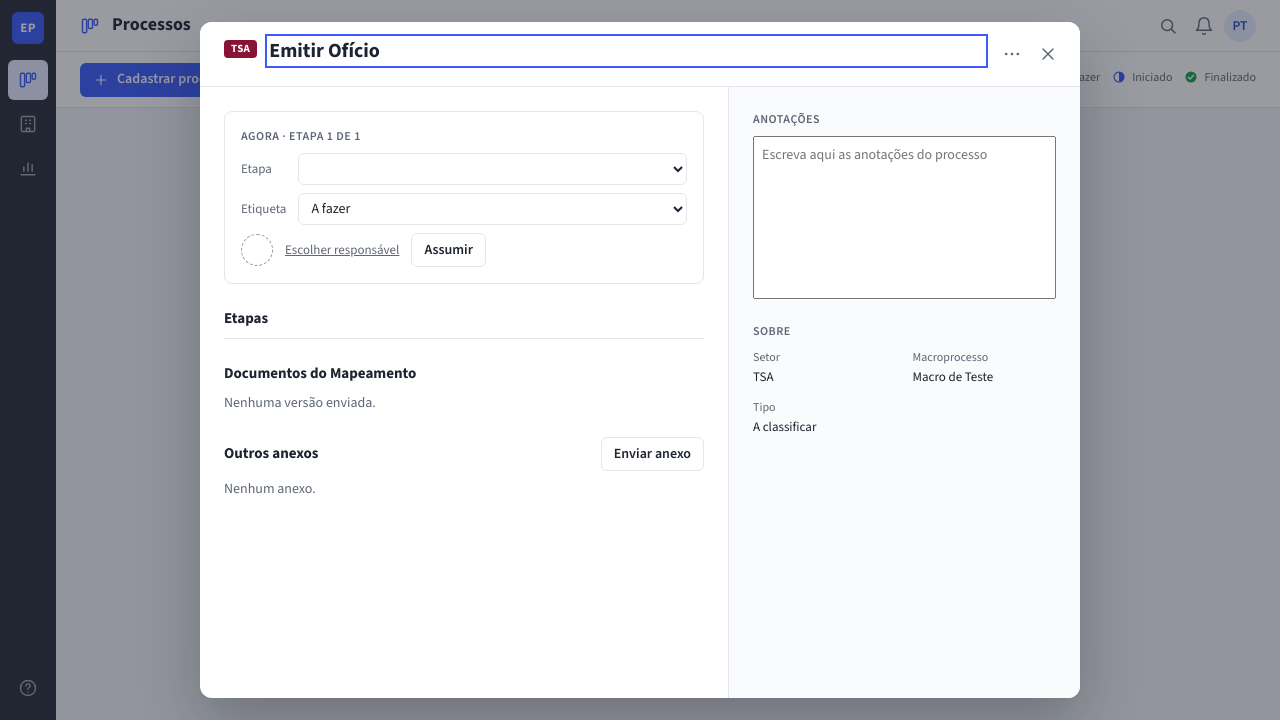
Test: o Esc no Editar volta ao verso sem gravar
Click the button named "Ações do processo" at x=1012, y=54, box [996,38,1028,70]
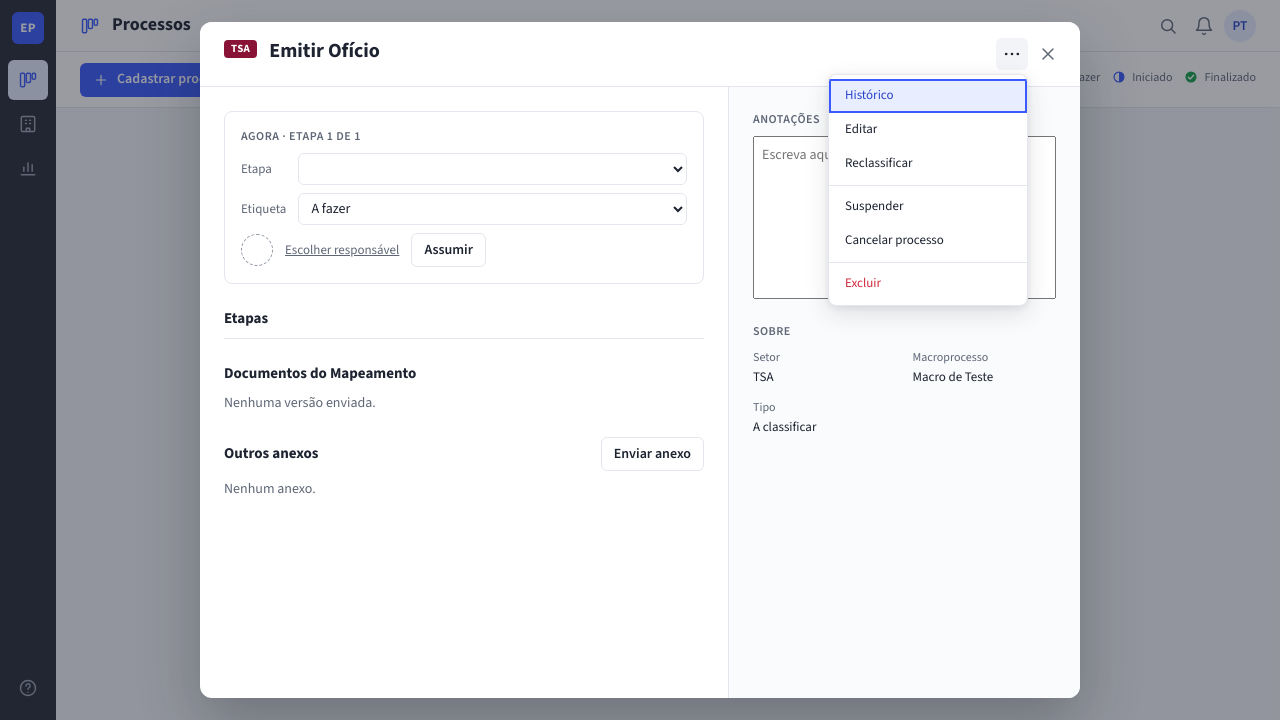
Click the menu item "Editar" at x=928, y=130, box [829,113,1027,147]
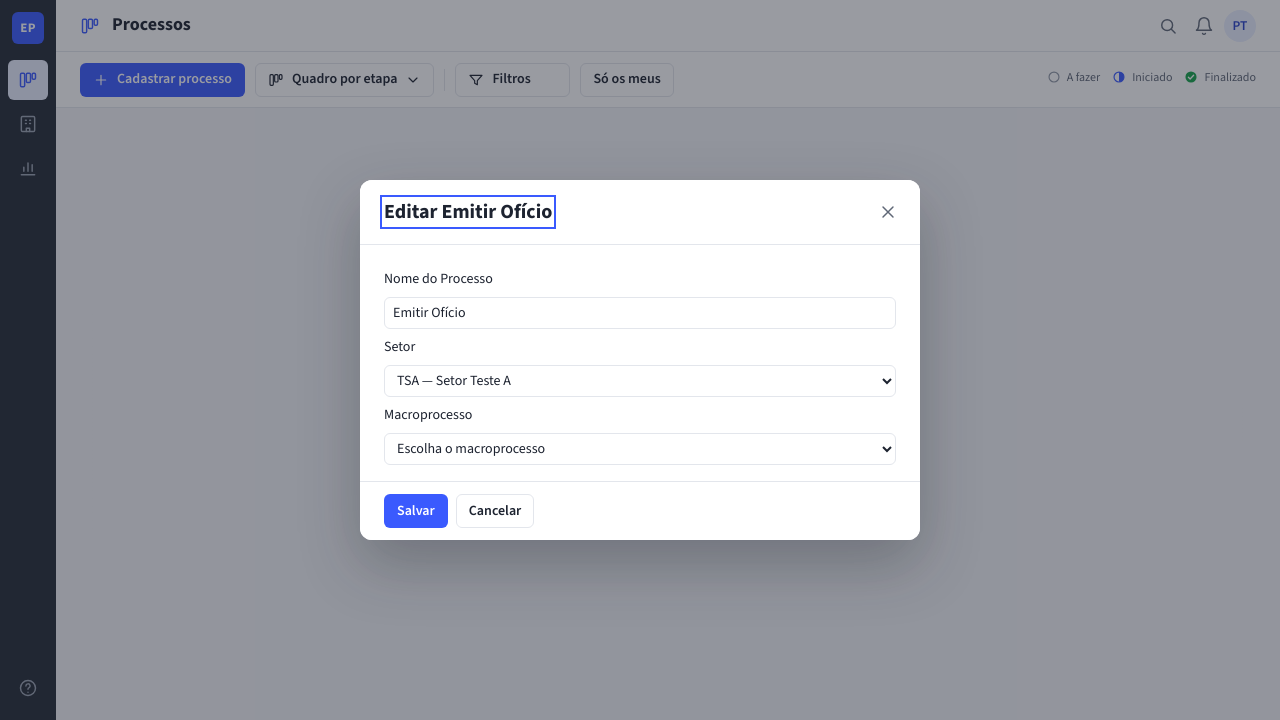
Replace the text in the field labelled "Nome do Processo" with "Outro Nome" at x=640, y=313, box [384,297,896,329]
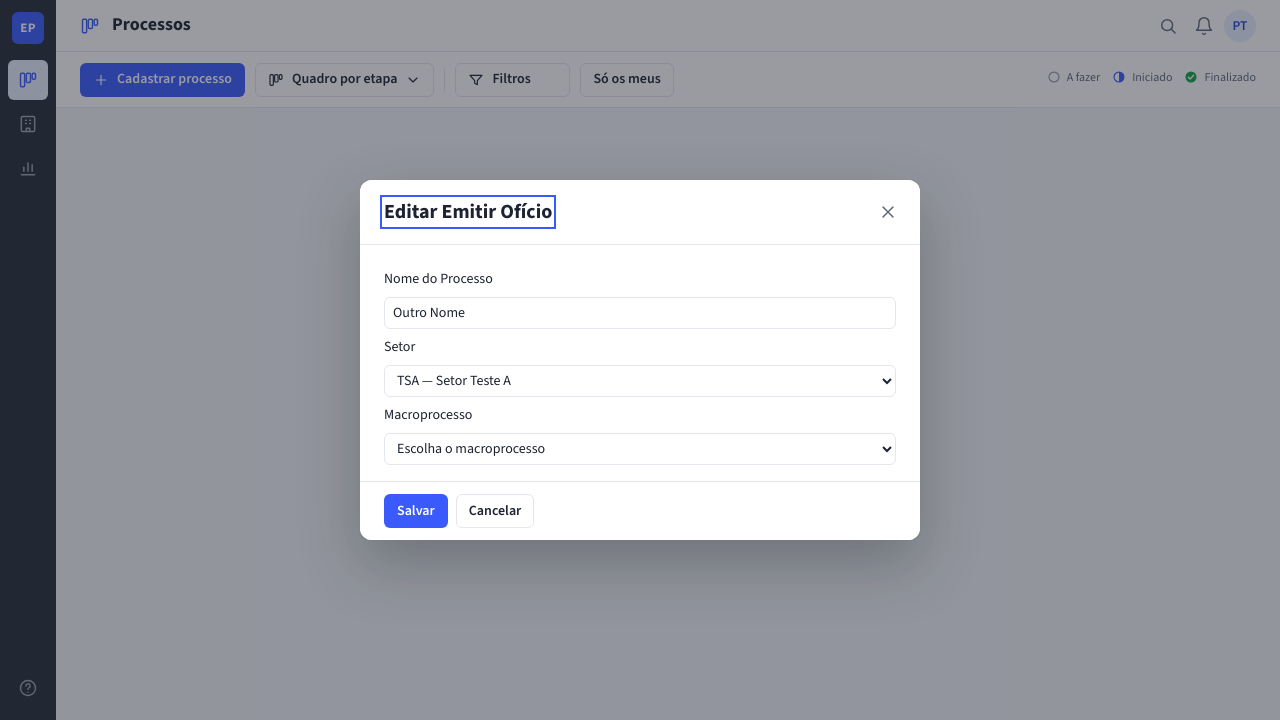
Press Escape in the field labelled "Nome do Processo", box [384,297,896,329]
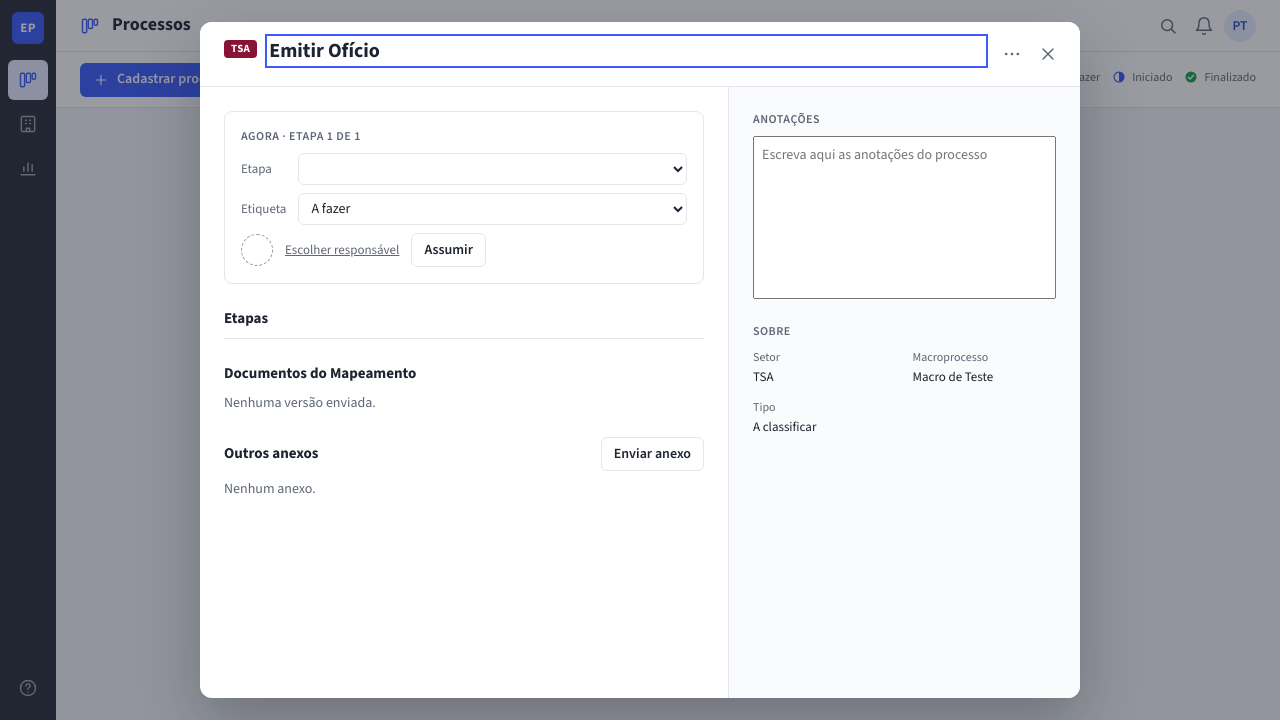
Expected: the element "Etapas" is shown, [224,308,268,329]
Expected: the heading "Emitir Ofício" is shown, [269,37,380,65]
